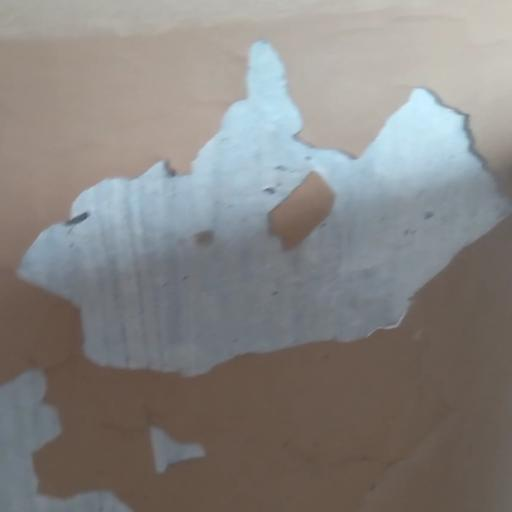peeling: (8, 30, 512, 378), (0, 354, 135, 512), (135, 409, 210, 485)
